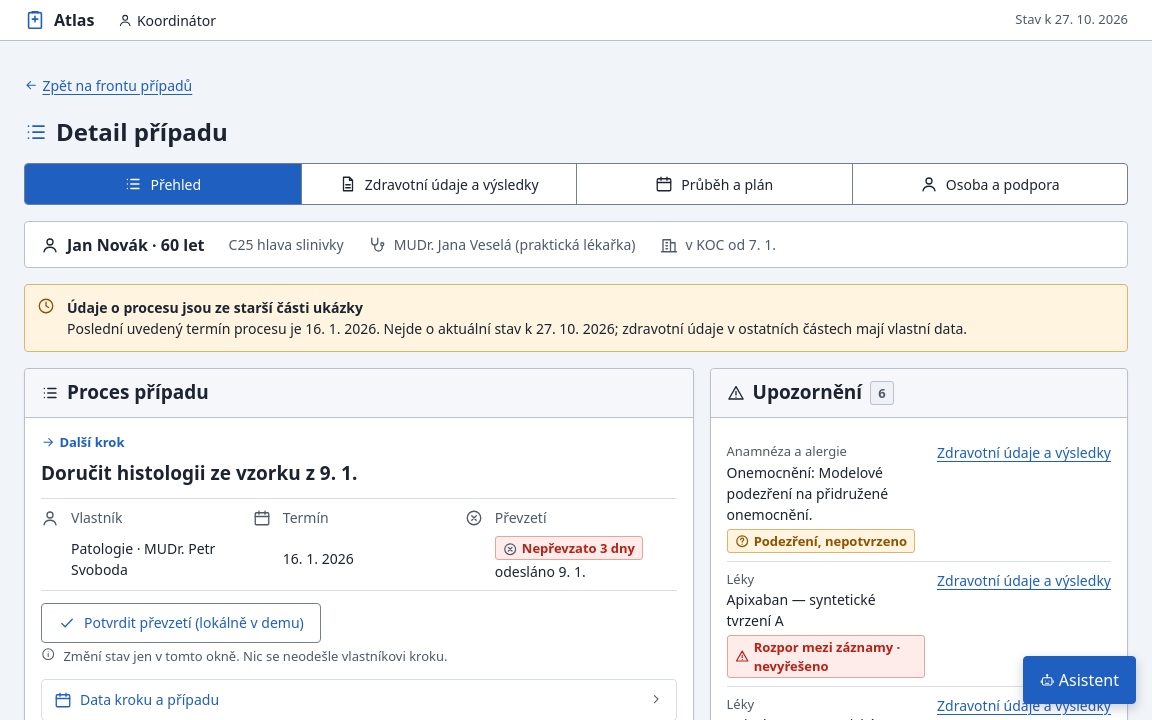
Scenario: assistant dialog › discloses full-record egress before sending and shows server coverage and source labels
Click the button "Asistent" at (1080, 680), box [1024,656,1136,704]
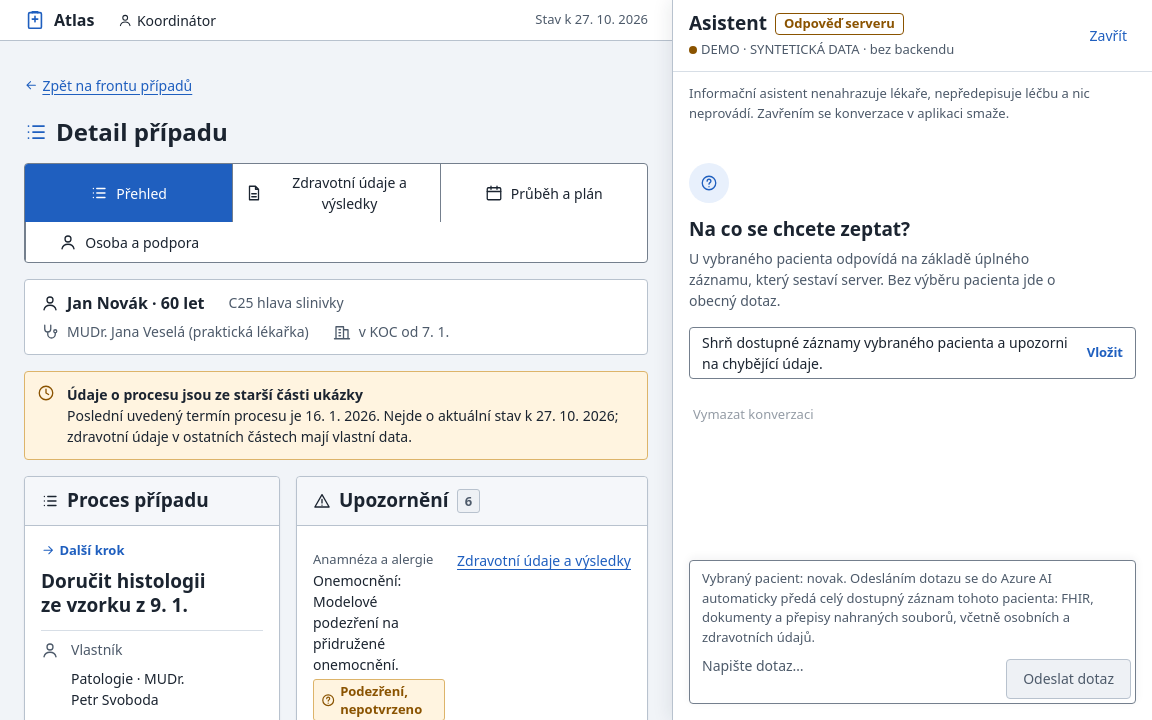
Expected: the text "do Azure AI automaticky předá celý dostupný záznam" shows "FHIR, dokumenty a přepisy", [702,569,1094,646]
Type "Shrň záznam." into the text box named "Váš dotaz" at (846, 675), box [690,647,1002,703]
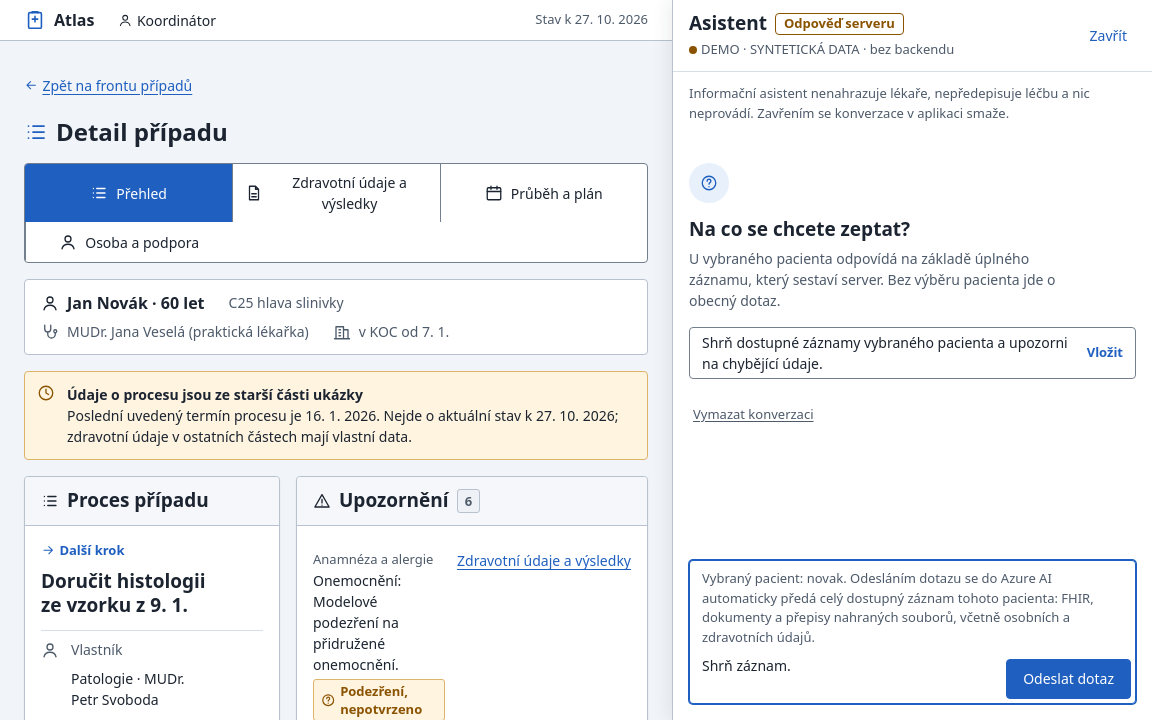
Click the button "Odeslat dotaz" at (1069, 679), box [1006,659,1131,699]
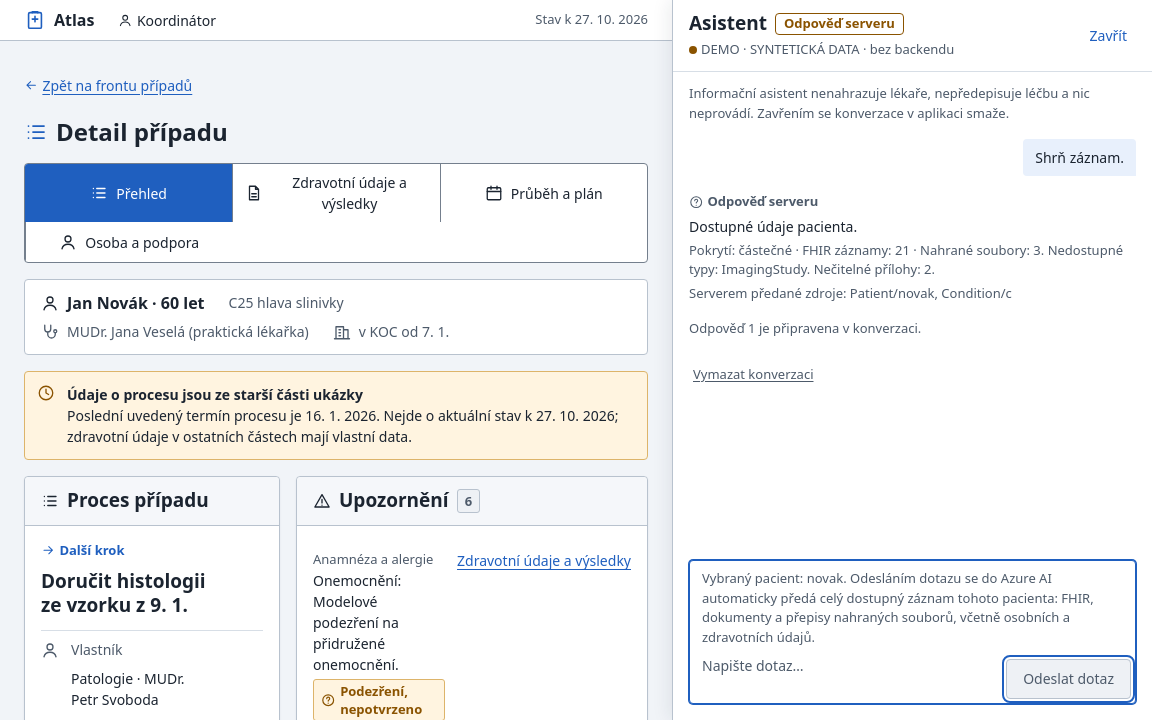
Expected: the text "Dostupné údaje pacienta." is shown, [689,217,857,236]
Expected: the text "Pokrytí: částečné" shows "FHIR záznamy: 21 · Nahrané soubory: 3.", [689,241,1136,280]
Expected: the text "Nedostupné typy: ImagingStudy" is shown, [689,241,1126,278]
